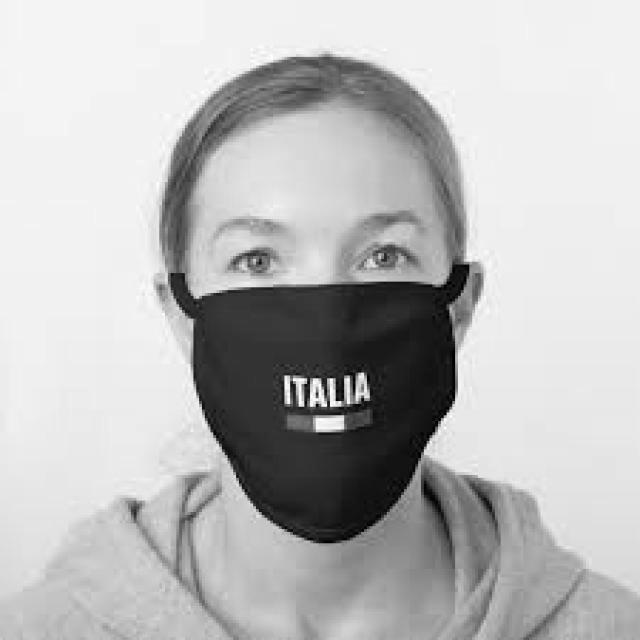fake: (129, 269, 499, 553)
real: (194, 107, 459, 553)
